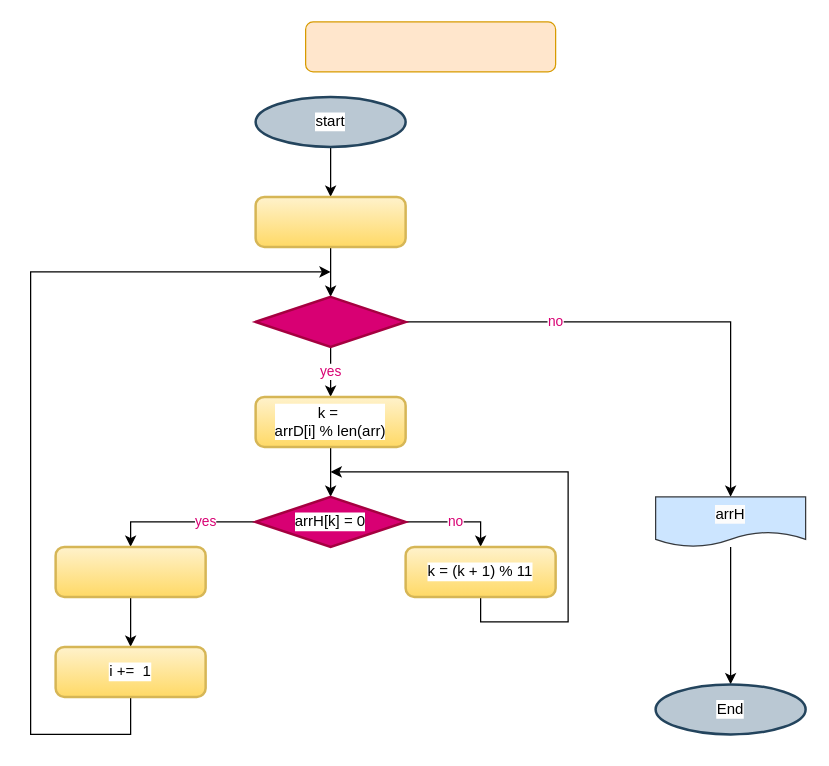
Some shapes in this 829 by 766 pixel diagram are drawn without their labels. Each missing label, with the centre of its shape:
arrH[k] = arrD[i]: [130,571]
i < len(arr): [330,321]
i = 0: [330,221]
해시 탐색법: [430,46]
